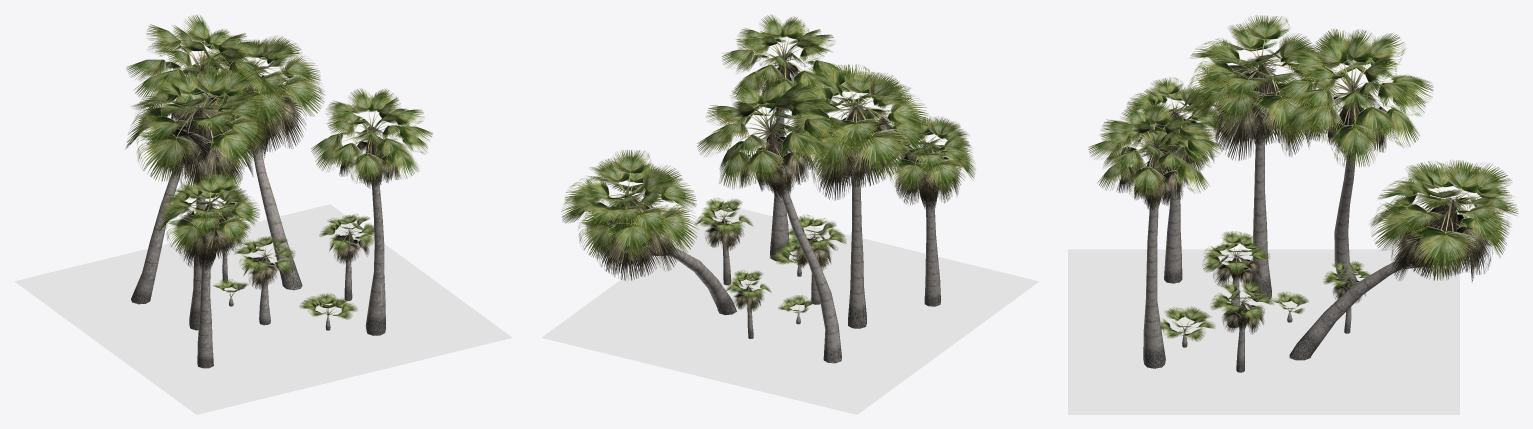
Rendered from low_poly_palms_pack.glb.
The picture shows the model from 3 angles, left to right: view 1: azimuth 30°, elevation 25°; view 2: azimuth 150°, elevation 25°; view 3: azimuth 270°, elevation 25°; orthographic projection. The views are drawn at different scales.
Visible parts, largest first — view 1: Plane, Palm 2 Bark.001, Palm 3 Healthy Leaves 15.001, Palm 4 Bark.001, Palm 1 Bark.001, Palm 5 Bark.001, Palm 3 Healthy Leaves 19.001, Palm 4 Healthy Leaves 2.001, Palm 4 Healthy Leaves 1.001, Palm 3 Dead Leaves 11.001, Palm 3 Dead Leaves 13.001, Palm 4 Dead Leaves 3.001 (+30 smaller); view 2: Plane, Palm 1 Bark.001, Palm 3 Bark.001, Palm 3 Healthy Leaves 23.001, Palm 5 Bark.001, Palm 4 Healthy Leaves 4.001, Palm 3 Dead Leaves 12.001, Palm 4 Bark.001, Palm 4 Healthy Leaves 5.001, Palm 4 Dead Leaves 2.001, Palm 3 Dead Leaves 10.001, Palm 2 Bark.001 (+43 smaller); view 3: Plane, Palm 2 Bark.001, Palm 4 Healthy Leaves 10.001, Palm 4 Bark.001, Palm 3 Bark.001, Palm 3 Dead Leaves 7.001, Palm 1 Bark.001, Palm 1Healthy Leaves 3.001, Palm 5 Bark.001, Palm 3 Healthy Leaves 21.001, Palm 3 Healthy Leaves 20.001, Palm 4 Healthy Leaves 2.001 (+54 smaller).
Part boxes in pixels (x1,y1,x2,y2): Plane: [14, 204, 512, 414]; Palm 2 Bark.001: [365, 179, 385, 335]; Palm 3 Healthy Leaves 15.001: [136, 107, 200, 181]; Palm 4 Bark.001: [251, 72, 302, 290]; Palm 1 Bark.001: [131, 166, 181, 304]; Palm 5 Bark.001: [197, 260, 213, 368]; Palm 3 Healthy Leaves 19.001: [202, 111, 259, 169]; Palm 4 Healthy Leaves 2.001: [262, 70, 324, 116]; Palm 4 Healthy Leaves 1.001: [244, 71, 294, 131]; Palm 3 Dead Leaves 11.001: [195, 114, 242, 185]; Palm 3 Dead Leaves 13.001: [165, 110, 211, 179]; Palm 4 Dead Leaves 3.001: [270, 95, 305, 148]; Plane: [541, 207, 1039, 414]; Palm 1 Bark.001: [780, 184, 841, 363]; Palm 3 Bark.001: [848, 105, 866, 328]; Palm 3 Healthy Leaves 23.001: [844, 105, 912, 178]; Palm 5 Bark.001: [924, 144, 940, 306]; Palm 4 Healthy Leaves 4.001: [629, 195, 698, 253]; Palm 3 Dead Leaves 12.001: [802, 106, 862, 178]; Palm 4 Bark.001: [626, 196, 736, 315]; Palm 4 Healthy Leaves 5.001: [605, 203, 658, 259]; Palm 4 Dead Leaves 2.001: [601, 204, 651, 280]; Palm 3 Dead Leaves 10.001: [810, 119, 857, 200]; Palm 2 Bark.001: [770, 108, 789, 261]; Plane: [1068, 249, 1459, 414]; Palm 2 Bark.001: [1143, 200, 1165, 368]; Palm 4 Healthy Leaves 10.001: [1410, 201, 1478, 277]; Palm 4 Bark.001: [1289, 199, 1452, 360]; Palm 3 Bark.001: [1251, 62, 1271, 301]; Palm 3 Dead Leaves 7.001: [1213, 76, 1269, 160]; Palm 1 Bark.001: [1334, 153, 1357, 284]; Palm 1Healthy Leaves 3.001: [1329, 103, 1378, 166]; Palm 5 Bark.001: [1164, 111, 1182, 283]; Palm 3 Healthy Leaves 21.001: [1254, 64, 1315, 143]; Palm 3 Healthy Leaves 20.001: [1206, 68, 1265, 127]; Palm 4 Healthy Leaves 2.001: [1371, 201, 1447, 250].
Size of the model in its own units: 0.2823 by 0.2517 by 0.3249.
4 materials, 3 textured.
